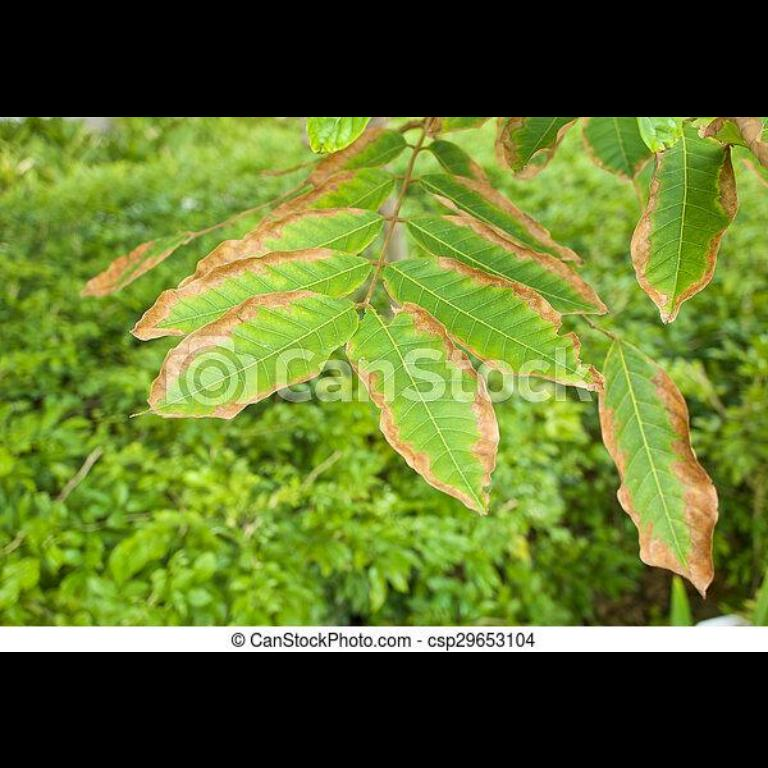blight: (643, 365, 729, 583), (628, 151, 728, 313)
